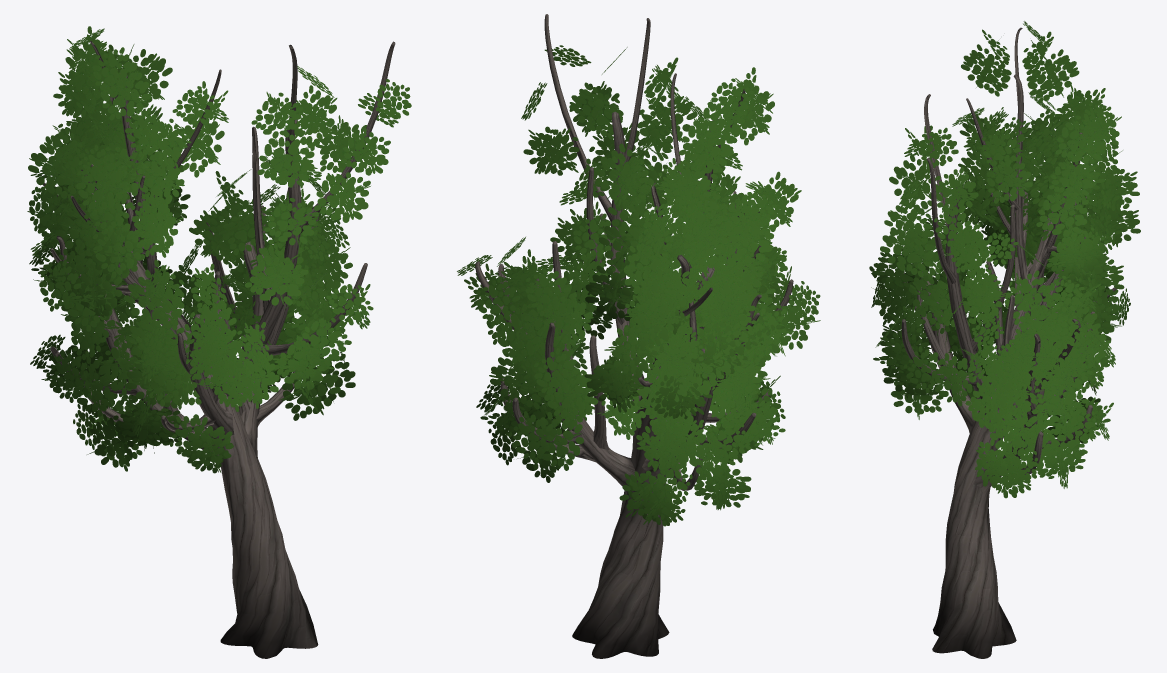
The model's file is twisted_2.glb.
3 renders of one model, left to right at view 1: azimuth 30°, elevation 25°; view 2: azimuth 150°, elevation 25°; view 3: azimuth 270°, elevation 25°, orthographic. The views are drawn at different scales.
Visible parts, largest first — view 1: TwistedTree_2; view 2: TwistedTree_2; view 3: TwistedTree_2.
Part boxes in pixels (box(x1,y1,x2,y2)): TwistedTree_2: box(27, 26, 411, 658); TwistedTree_2: box(457, 14, 820, 658); TwistedTree_2: box(869, 21, 1140, 658).
Bounding box in the file's own units: 10.17 × 18.26 × 8.62.
Materials: 2 (2 with a texture image).
